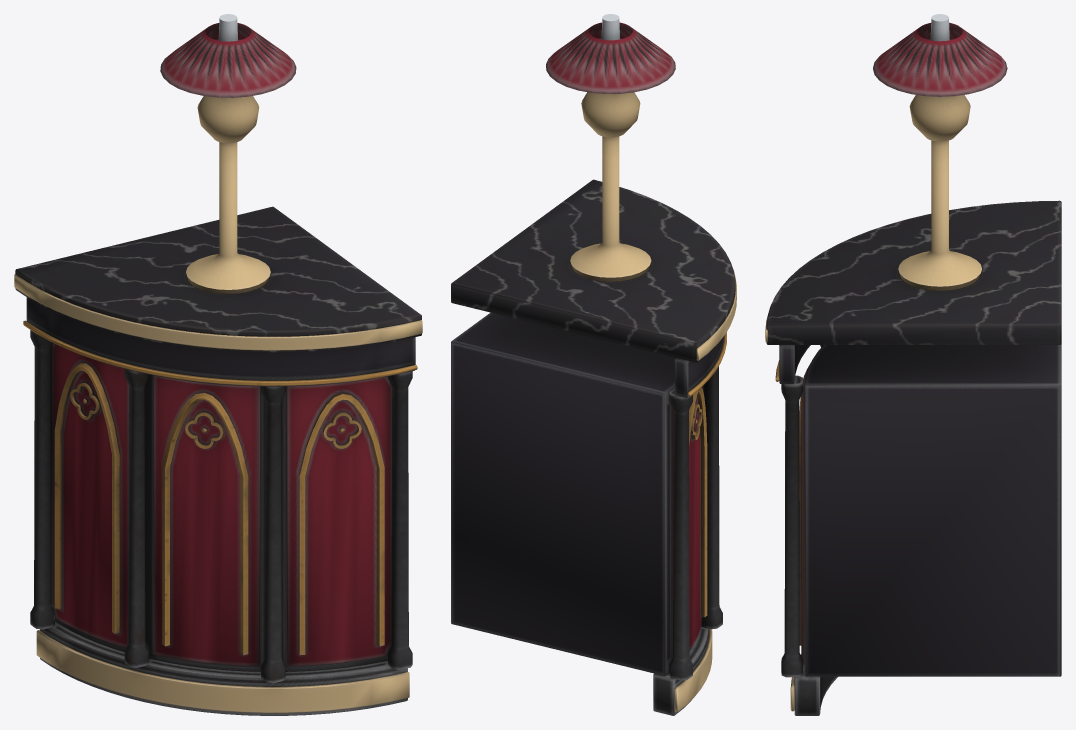
File: ShopCounterCorner.fbx
The picture shows the model from 3 angles, left to right: view 1: azimuth 30°, elevation 25°; view 2: azimuth 150°, elevation 25°; view 3: azimuth 270°, elevation 25°; orthographic projection. The views are drawn at different scales.
Visible parts, largest first — view 1: ShopCounterCorner_Main; view 2: ShopCounterCorner_Main, ShopCounterCorner_Glass; view 3: ShopCounterCorner_Main, ShopCounterCorner_Glass.
Boxes of the visible parts, <box> form: ShopCounterCorner_Main: <box>14,23,422,715</box>; ShopCounterCorner_Main: <box>451,22,736,715</box>; ShopCounterCorner_Glass: <box>601,14,619,40</box>; ShopCounterCorner_Main: <box>765,22,1061,715</box>; ShopCounterCorner_Glass: <box>930,14,949,41</box>.
Bounding box in the file's own units: 233 × 562 × 233.
